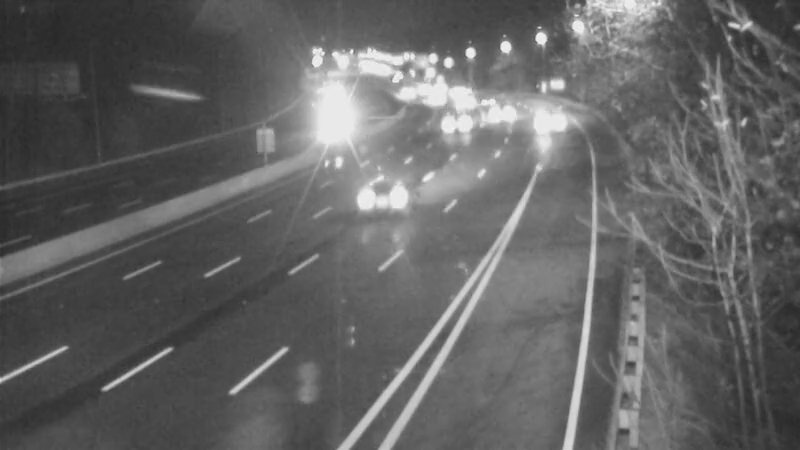vehicle: (343, 155, 423, 235), (381, 65, 431, 115), (409, 73, 459, 123), (433, 80, 483, 130), (462, 71, 512, 121), (468, 91, 518, 141), (418, 100, 468, 150), (518, 90, 568, 140), (311, 105, 361, 155)
